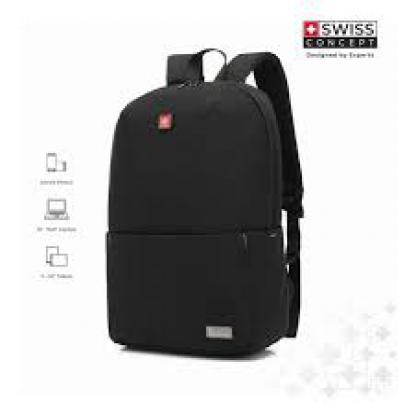morral: (99, 37, 311, 356)
